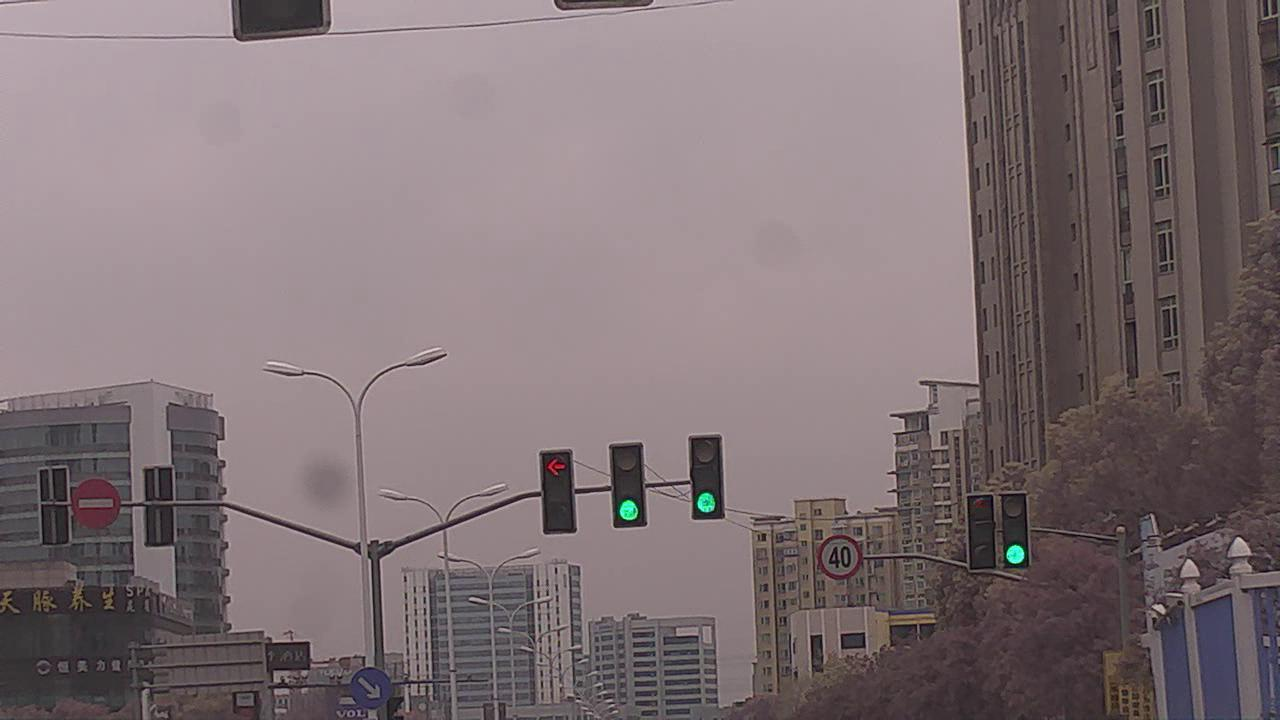traffic_light: (687, 433, 726, 522), (611, 442, 649, 527), (539, 448, 576, 534), (967, 491, 999, 575), (1001, 491, 1033, 570)
